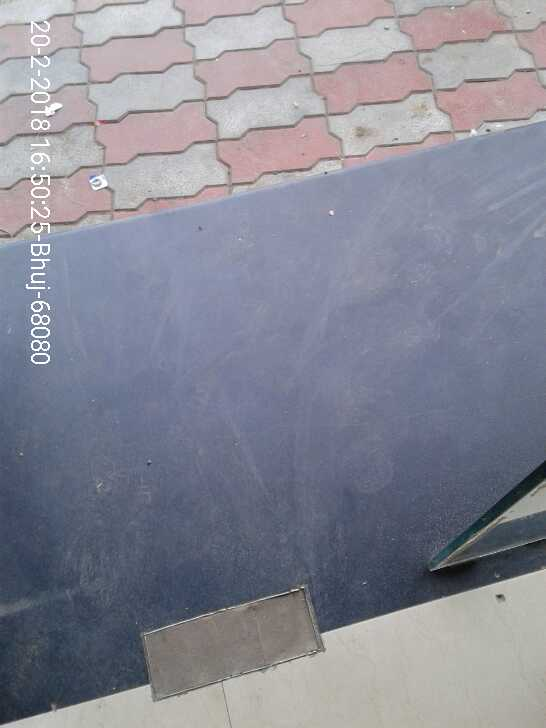reject: (239, 331, 318, 420)
